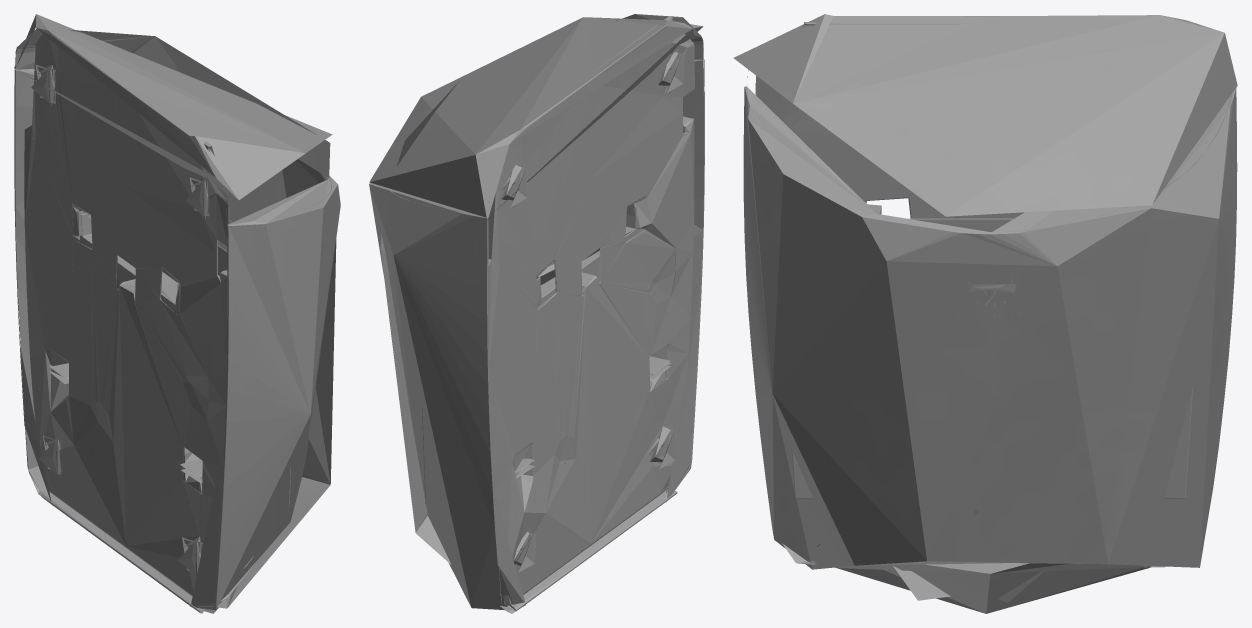
The model's file is appliance_handDryer_automatic_b01.glb.
3 views of the same model, side by side, from view 1: azimuth 30°, elevation 25°; view 2: azimuth 150°, elevation 25°; view 3: azimuth 270°, elevation 25° (orthographic). The views are drawn at different scales.
Visible parts, largest first — view 1: geometry_0; view 2: geometry_0; view 3: geometry_0.
Boxes of the visible parts, x1,y1,x2,y2 form: geometry_0: (14,14,340,613); geometry_0: (369,14,704,613); geometry_0: (733,14,1237,613).
Bounding box in the file's own units: 0.1751 × 0.42 × 0.3413.
Materials: 1 (1 with a texture image).
